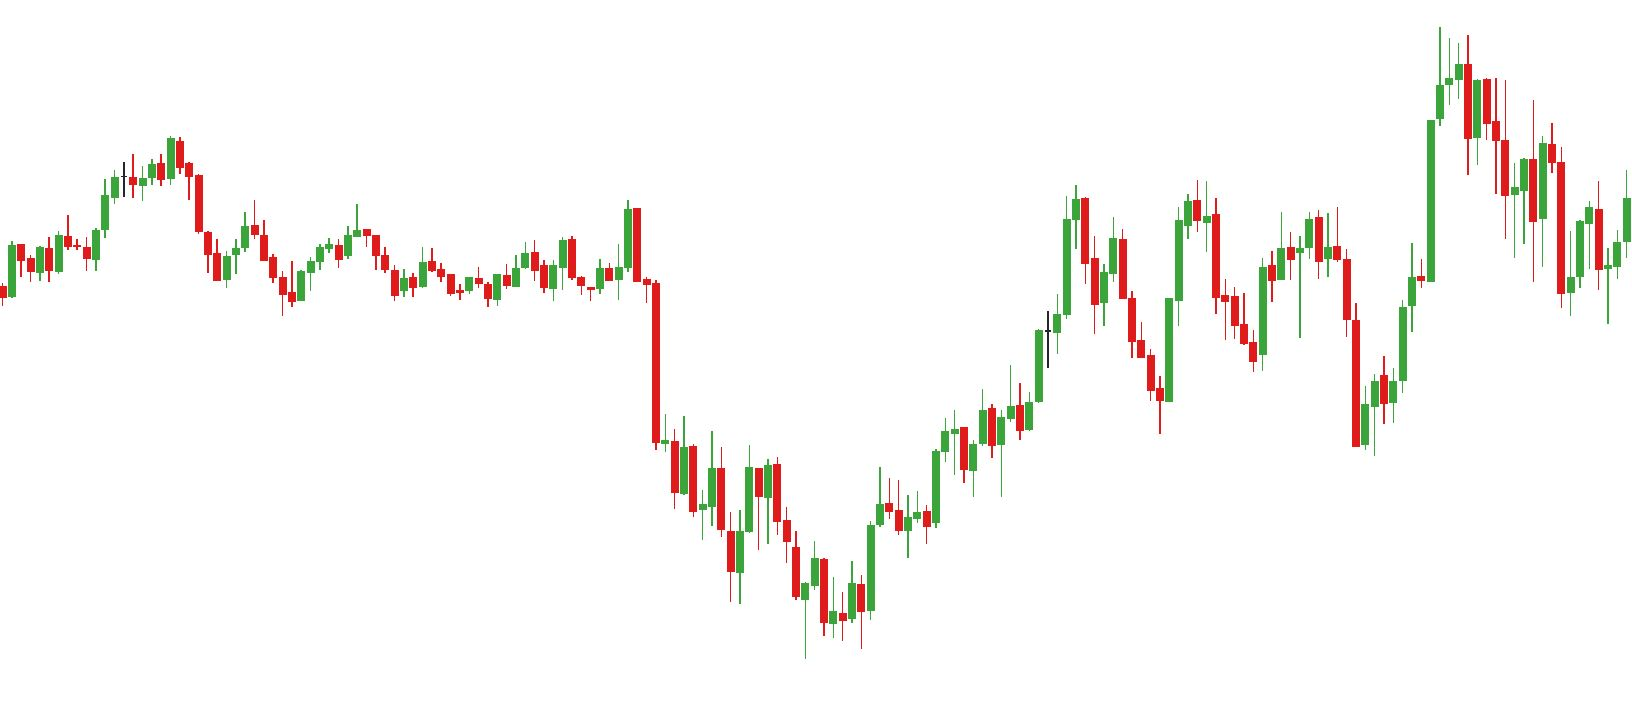buy: (1155, 265, 1369, 458), (725, 504, 812, 672)
sell: (557, 194, 643, 288)
